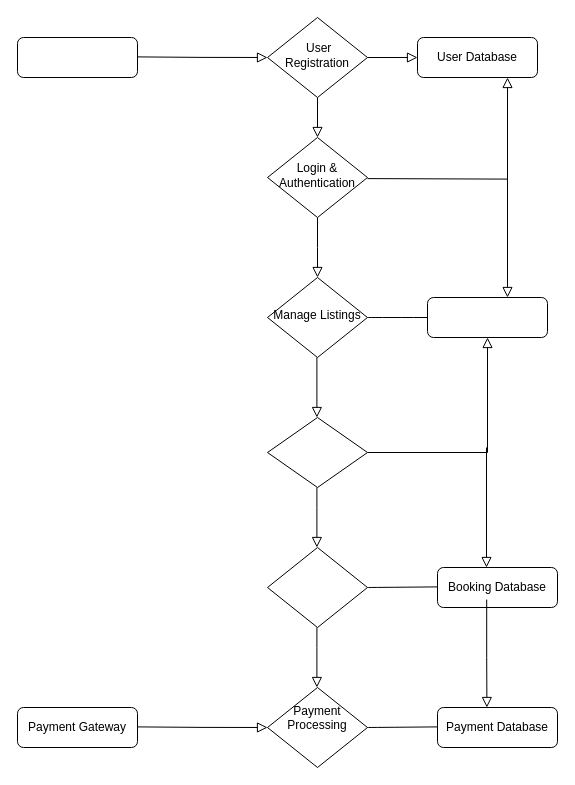
The diagram is 575 pixels wide and 785 high, and some of its shapes have lost their labels. Each missing label, with the centre of its shape:
"Booking Management" goes at (x=317, y=587).
"Property Database" goes at (x=487, y=317).
"Search Listings" goes at (x=317, y=452).
"Users" goes at (x=77, y=57).
